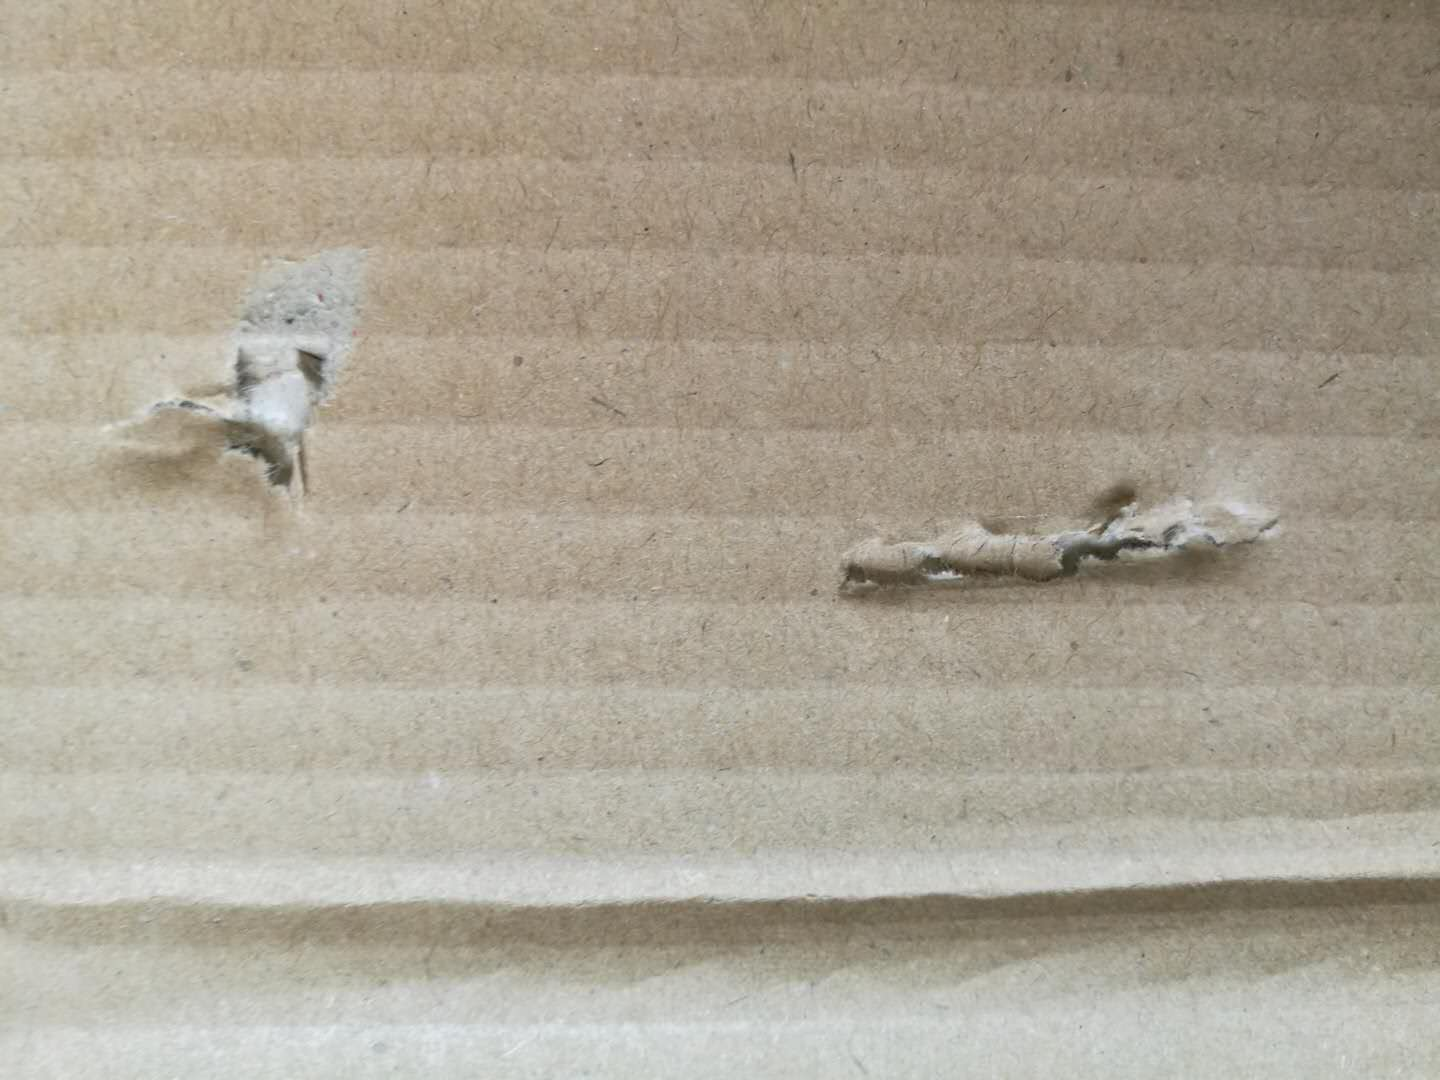defect: (2, 808, 1440, 1040), (63, 228, 427, 541), (808, 447, 1308, 649)
